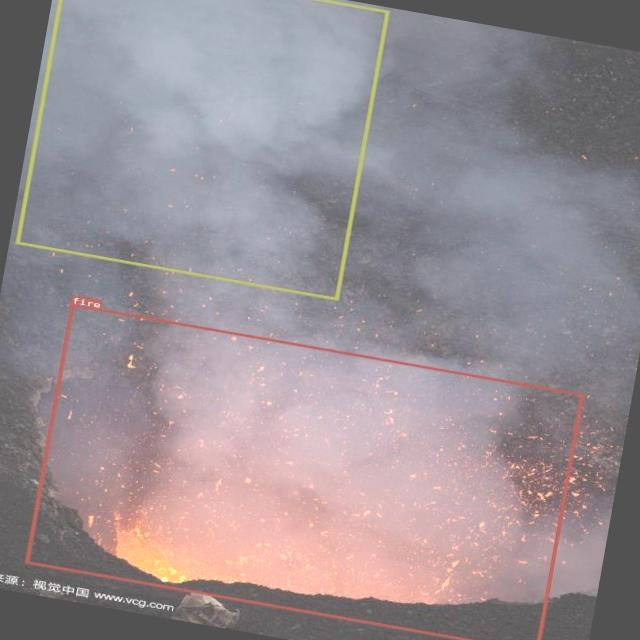fire: (24, 303, 583, 640)
smoke: (14, 0, 388, 299)
